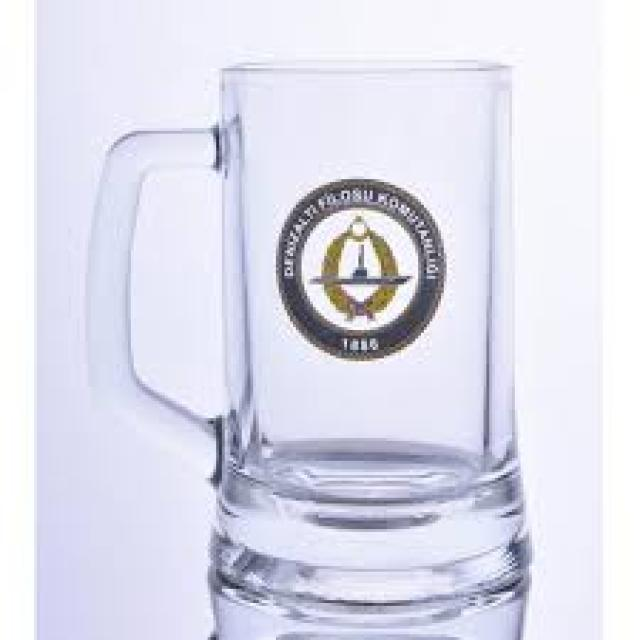Dry: (79, 52, 537, 628)
